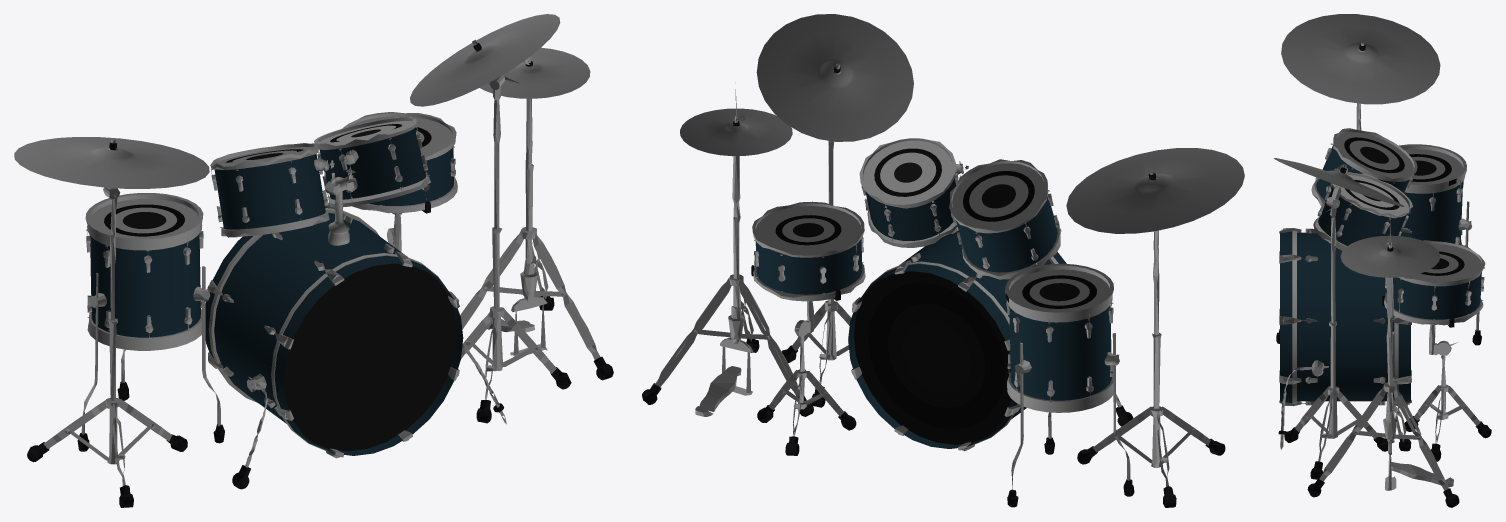
Rendered from Inst_Drums.fbx.
The picture shows the model from 3 angles, left to right: view 1: azimuth 30°, elevation 25°; view 2: azimuth 150°, elevation 25°; view 3: azimuth 270°, elevation 25°; orthographic projection. The views are drawn at different scales.
Visible parts, largest first — view 1: Cylinder.002, Goldd; view 2: Cylinder.002, Goldd; view 3: Cylinder.002, Goldd.
Part boxes in pixels (left/top/right/bottom): Cylinder.002: left=27, top=56, right=613, bottom=507; Goldd: left=14, top=14, right=590, bottom=188; Cylinder.002: left=642, top=82, right=1225, bottom=507; Goldd: left=680, top=14, right=1244, bottom=233; Cylinder.002: left=1276, top=103, right=1491, bottom=507; Goldd: left=1274, top=14, right=1440, bottom=277.
Size of the model in its own units: 3.08 by 1.88 by 1.22.
